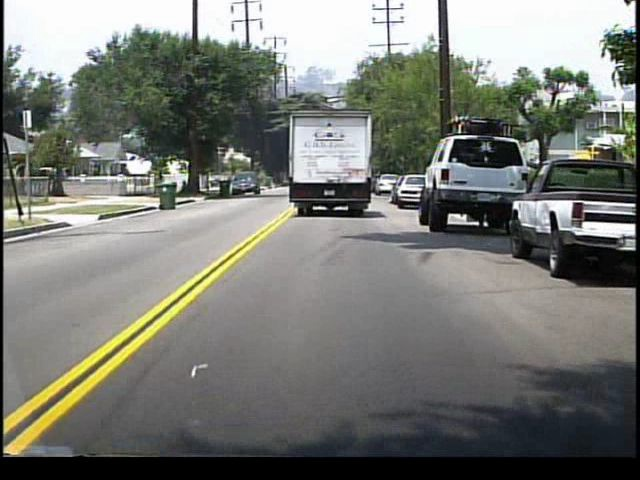person: (156, 168, 167, 195)
